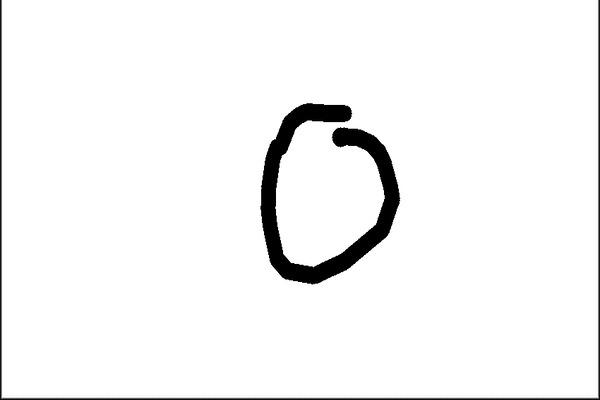O: (249, 86, 406, 287)
